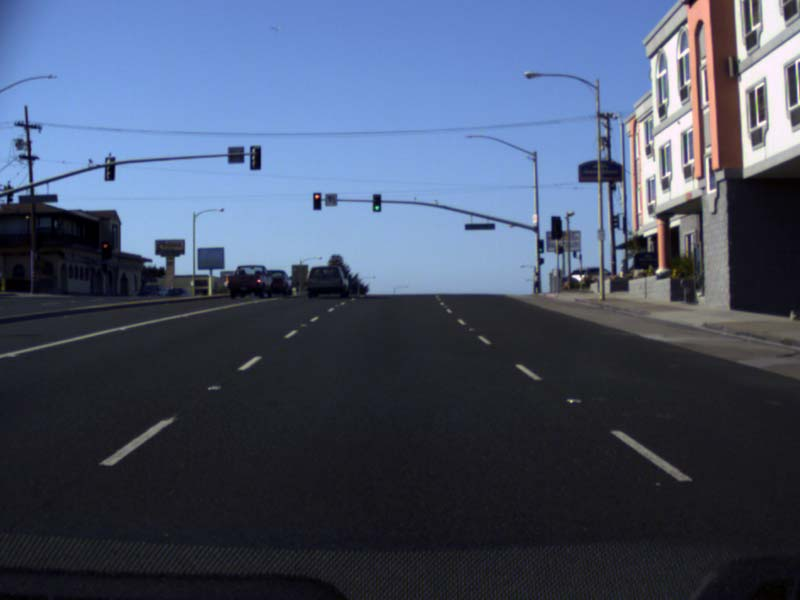Green: (373, 195, 380, 211), (538, 240, 543, 252)
Red: (101, 241, 108, 258), (313, 193, 320, 208)
